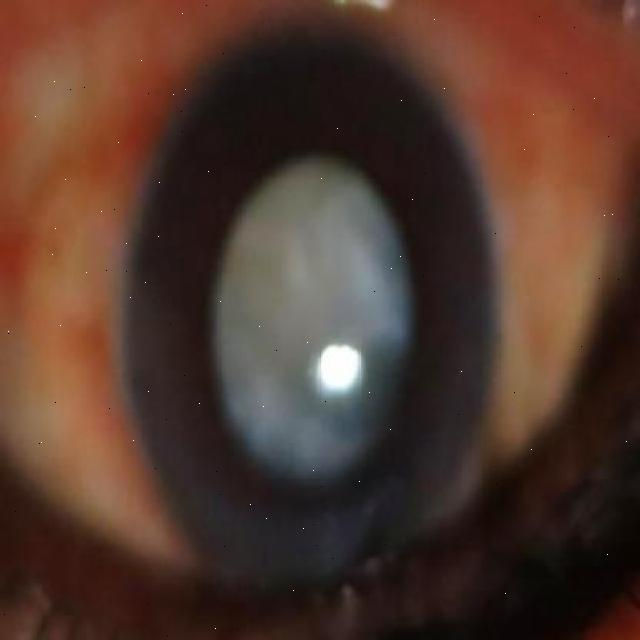Cataract: (119, 24, 497, 578)
